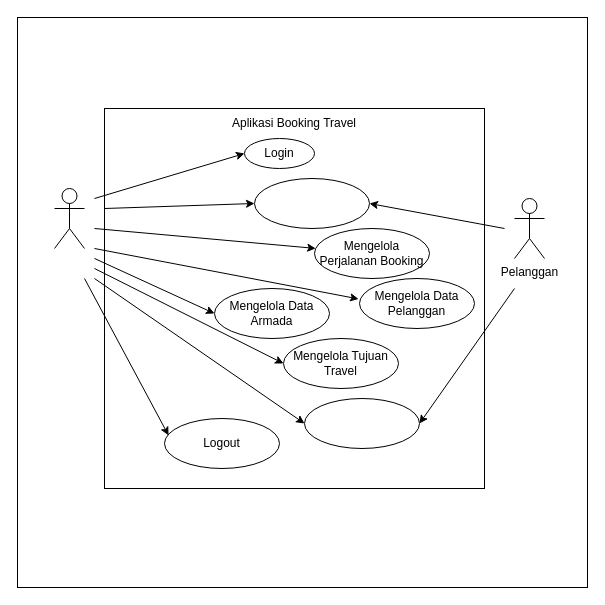
This 605x605 diagram has some shape labels left out. Each missing label, with the centre of its shape:
admin: [69,218]
Membuat Booking Perjalanan: [312,203]
Mencari Rute Terdekat: [362,423]
